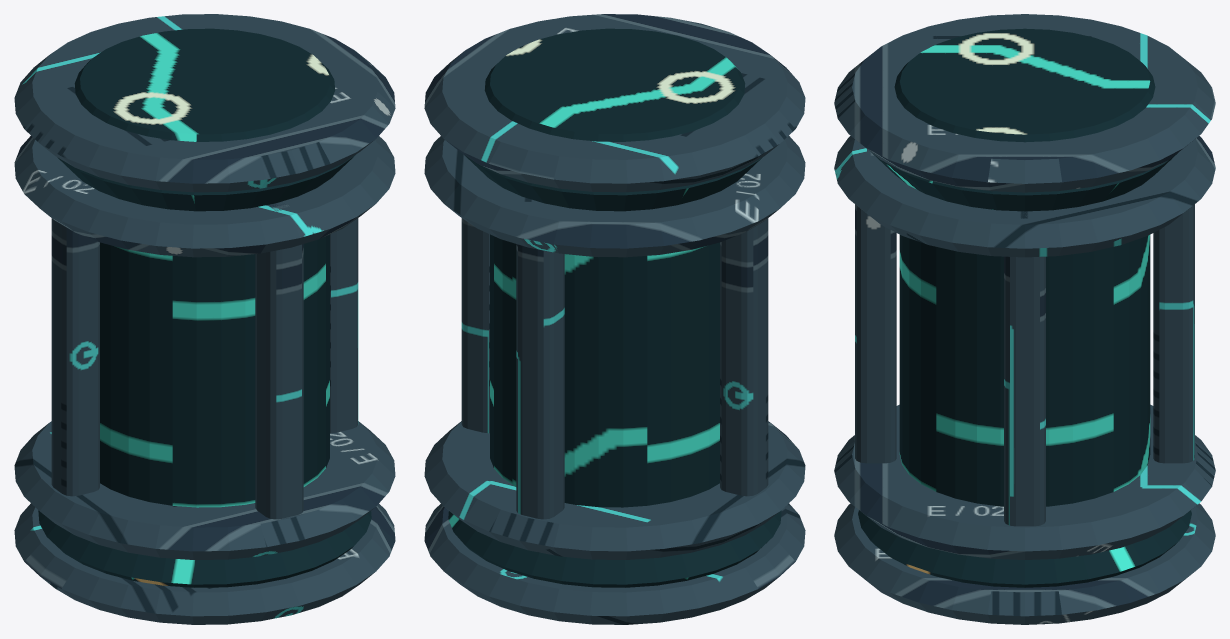
The model's file is CeldaEnergia.fbx.
3 views of the same model, side by side, from view 1: azimuth 30°, elevation 25°; view 2: azimuth 150°, elevation 25°; view 3: azimuth 270°, elevation 25° (orthographic).
Parts seen in each view (by area): view 1: CeldaEnergia; view 2: CeldaEnergia; view 3: CeldaEnergia.
Part boxes in pixels (<box>): CeldaEnergia: <box>14,14,395,624</box>; CeldaEnergia: <box>424,14,805,624</box>; CeldaEnergia: <box>834,14,1215,624</box>.
Size of the model in its own units: 32 by 44 by 32.
